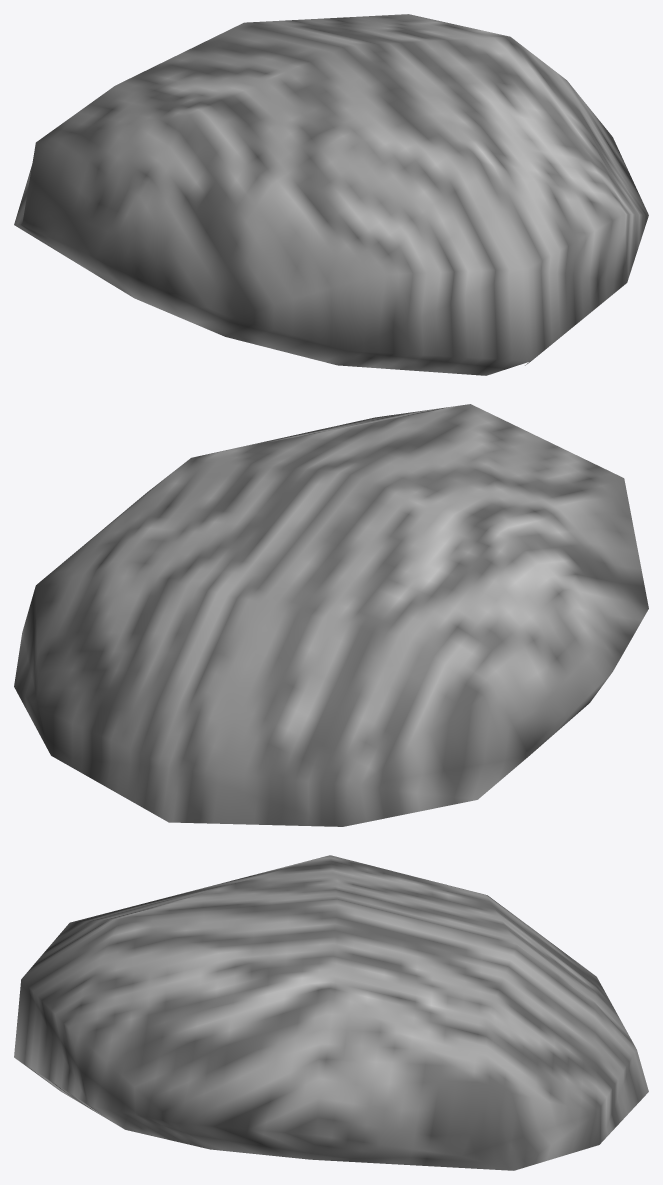
The model's file is Wig_M_Hair_CrewCut.fbx.
The picture shows the model from 3 angles, top to bottom: view 1: azimuth 30°, elevation 25°; view 2: azimuth 150°, elevation 25°; view 3: azimuth 270°, elevation 25°; orthographic projection. The views are drawn at different scales.
Parts seen in each view (by area): view 1: BoxOfJars003; view 2: BoxOfJars003; view 3: BoxOfJars003.
Boxes of the visible parts, left/top/right/bottom form: BoxOfJars003: left=14, top=14, right=648, bottom=375; BoxOfJars003: left=14, top=404, right=648, bottom=826; BoxOfJars003: left=14, top=855, right=648, bottom=1170.
Size of the model in its own units: 9.7 by 3.98 by 11.96.
